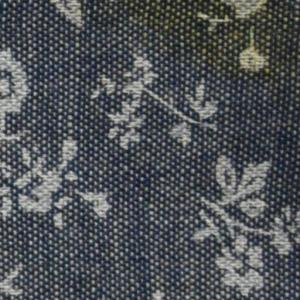Oil Stain: (120, 1, 300, 86)
